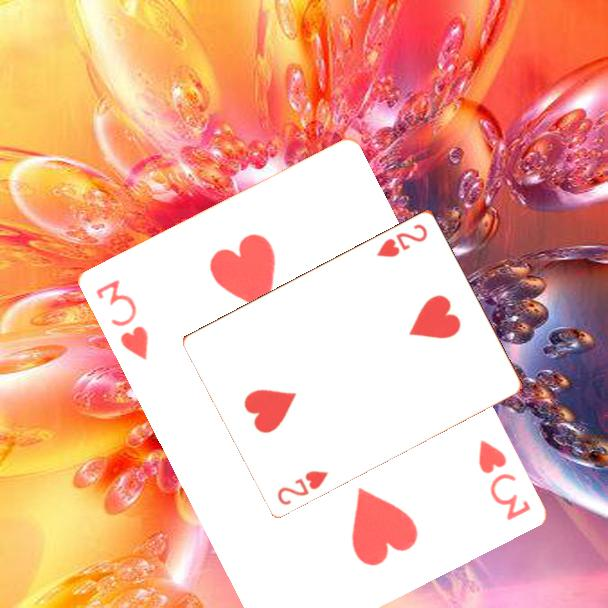h02: (274, 466, 332, 508), (373, 220, 431, 260)
h03: (91, 275, 151, 364), (473, 435, 533, 524)
